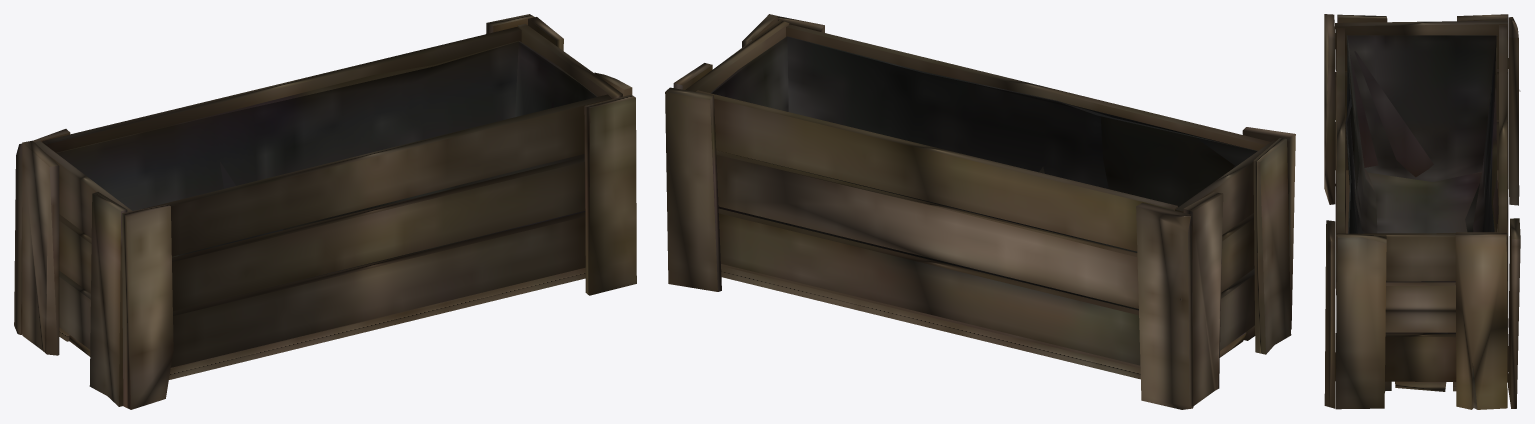
The model's file is jardiniere_bac_bois_lod2.glb.
The picture shows the model from 3 angles, left to right: view 1: azimuth 30°, elevation 25°; view 2: azimuth 150°, elevation 25°; view 3: azimuth 270°, elevation 25°; orthographic projection. The views are drawn at different scales.
Parts seen in each view (by area): view 1: planter_box_02; view 2: planter_box_02; view 3: planter_box_02.
Part boxes in pixels (x1,y1,x2,y2): planter_box_02: (14, 14, 636, 409); planter_box_02: (665, 14, 1295, 409); planter_box_02: (1324, 14, 1520, 409).
Bounding box in the file's own units: 1.24 × 0.4485 × 0.4601.
Materials: 1 (1 with a texture image).
